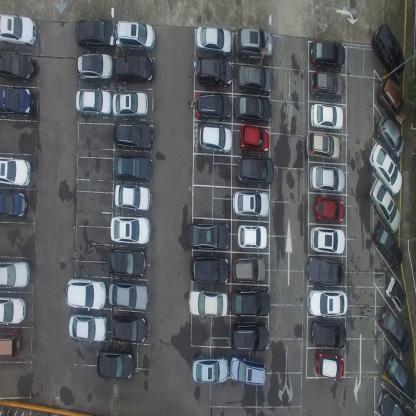car: (372, 22, 405, 80), (369, 177, 401, 234), (369, 143, 402, 196), (378, 305, 412, 355), (384, 353, 416, 402), (372, 221, 403, 271), (376, 76, 407, 125), (96, 347, 136, 381), (116, 18, 156, 52), (376, 113, 404, 160), (108, 280, 149, 312), (109, 214, 150, 246), (74, 18, 116, 49), (66, 278, 106, 310), (114, 54, 154, 86), (229, 286, 270, 317), (188, 220, 230, 250), (229, 354, 266, 388), (237, 27, 274, 61), (0, 12, 37, 46), (237, 154, 275, 187), (114, 119, 154, 150), (197, 25, 234, 58), (235, 92, 273, 124), (69, 312, 107, 344), (189, 252, 229, 282), (106, 246, 146, 276), (308, 289, 348, 319), (191, 353, 229, 384), (307, 257, 346, 287), (230, 320, 269, 350), (238, 62, 274, 94), (195, 91, 232, 122), (197, 56, 234, 87), (232, 188, 270, 218), (110, 312, 148, 342), (76, 52, 115, 81), (74, 89, 113, 118), (0, 50, 34, 83), (309, 225, 346, 255), (0, 86, 33, 119), (199, 122, 233, 154), (310, 38, 345, 69), (309, 164, 346, 193), (310, 69, 344, 100), (305, 130, 340, 160), (114, 153, 152, 180), (112, 91, 149, 118), (114, 183, 150, 210), (310, 321, 346, 348), (232, 254, 266, 282), (314, 350, 344, 380), (0, 156, 30, 186), (239, 124, 270, 153), (314, 195, 345, 224), (236, 223, 268, 250), (311, 103, 344, 129), (0, 189, 28, 219), (378, 389, 410, 415), (0, 260, 29, 288), (386, 275, 407, 312), (0, 295, 26, 324), (0, 328, 22, 358)
